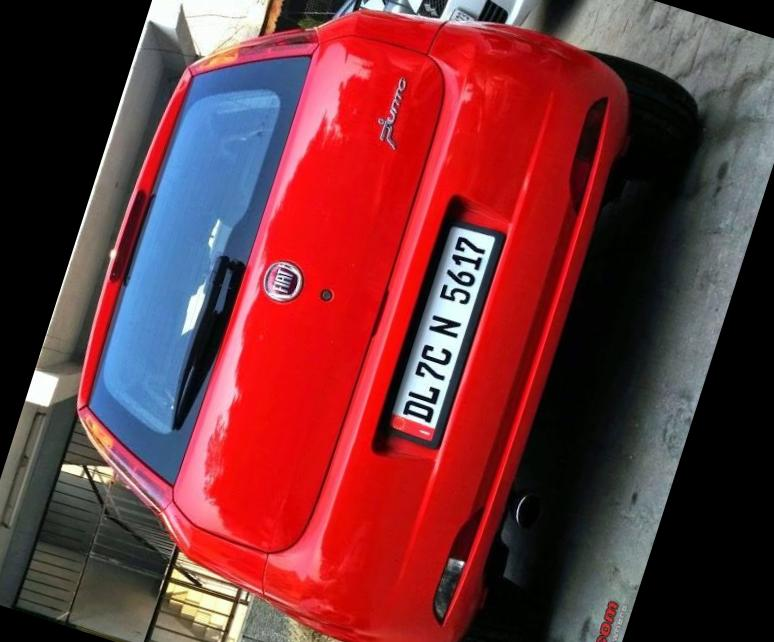plate: (374, 204, 531, 461)
